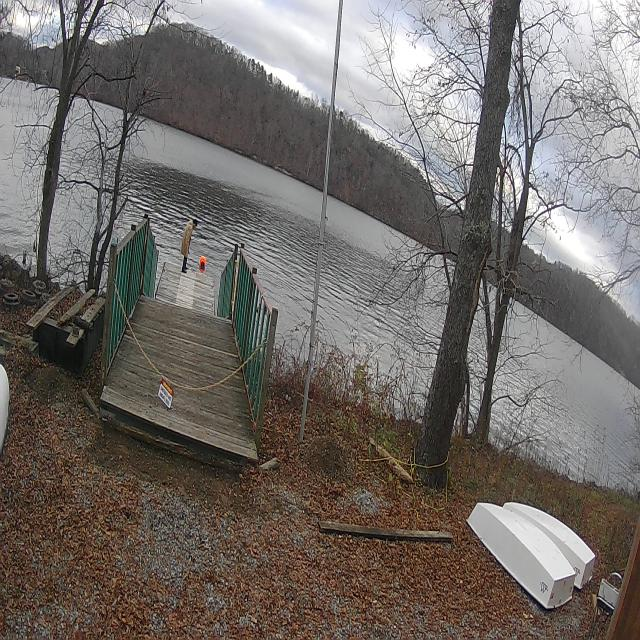Buoy: (198, 254, 207, 274)
